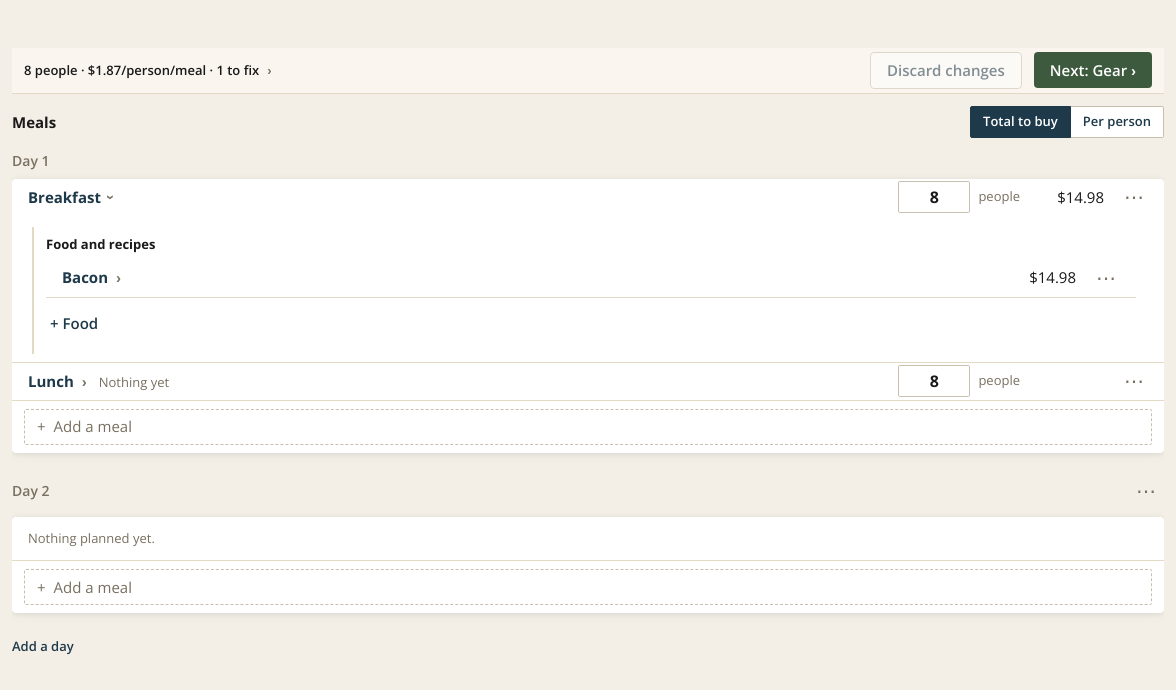
Test: MealEditor › add, swap, remove › Search_AddsARecipe_WhenAnOptionIsClicked
Click the button "+ Food": (74, 324) [46,302,102,346]
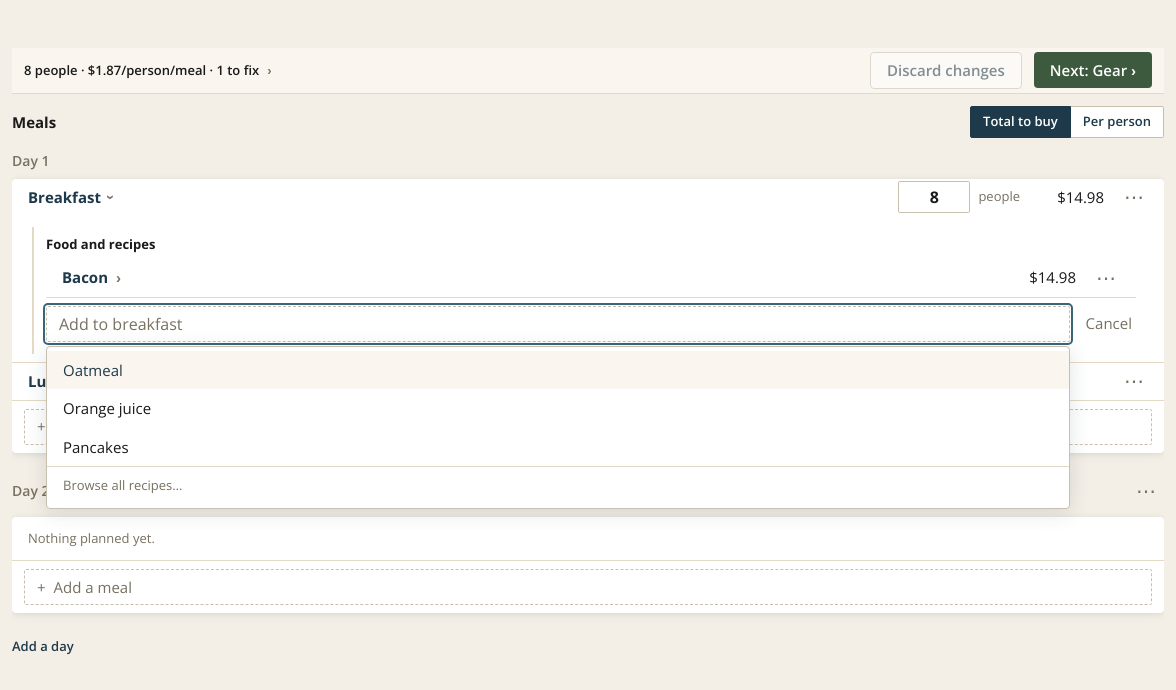
In the dropdown: (558, 324) [46,306,1070,342], type "Pan"
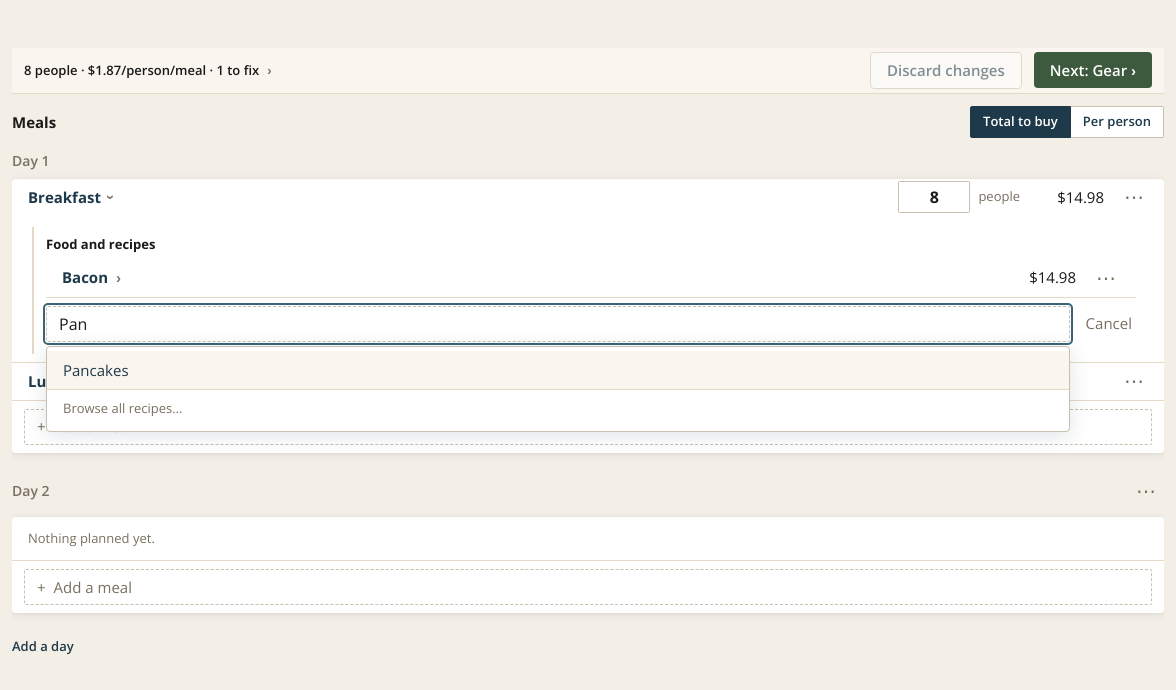
Click the option "Pancakes": (96, 370) [47,350,1069,389]
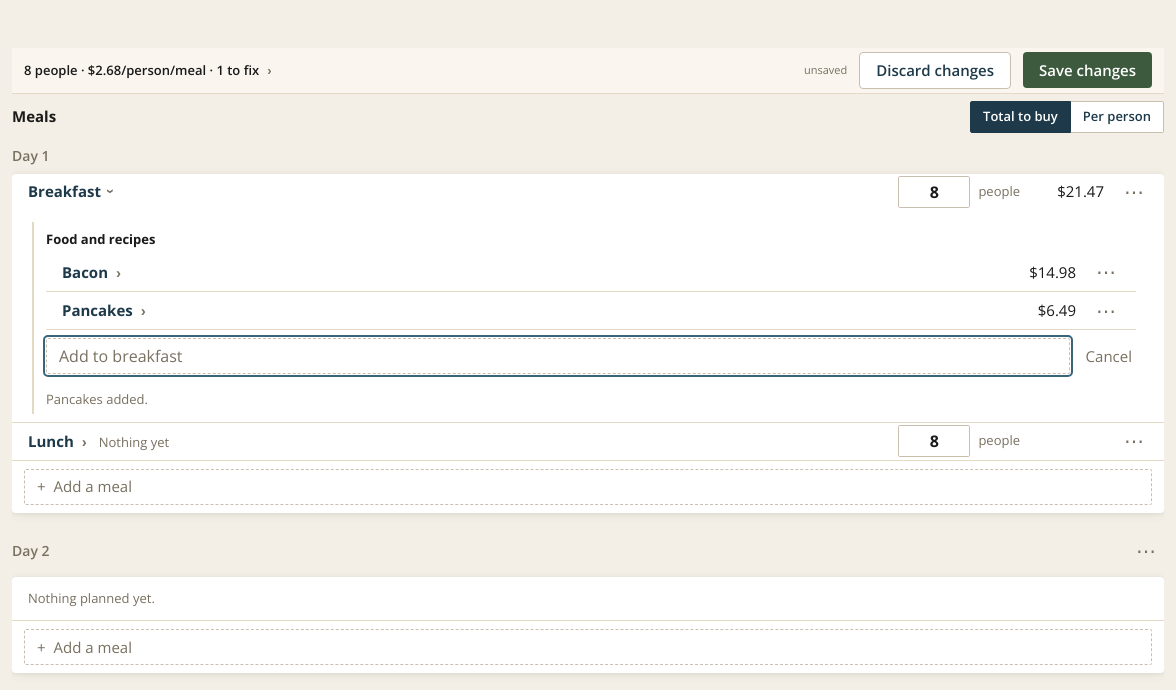
Check: the button "Pancakes ›" is shown, box [62,299,146,322]
